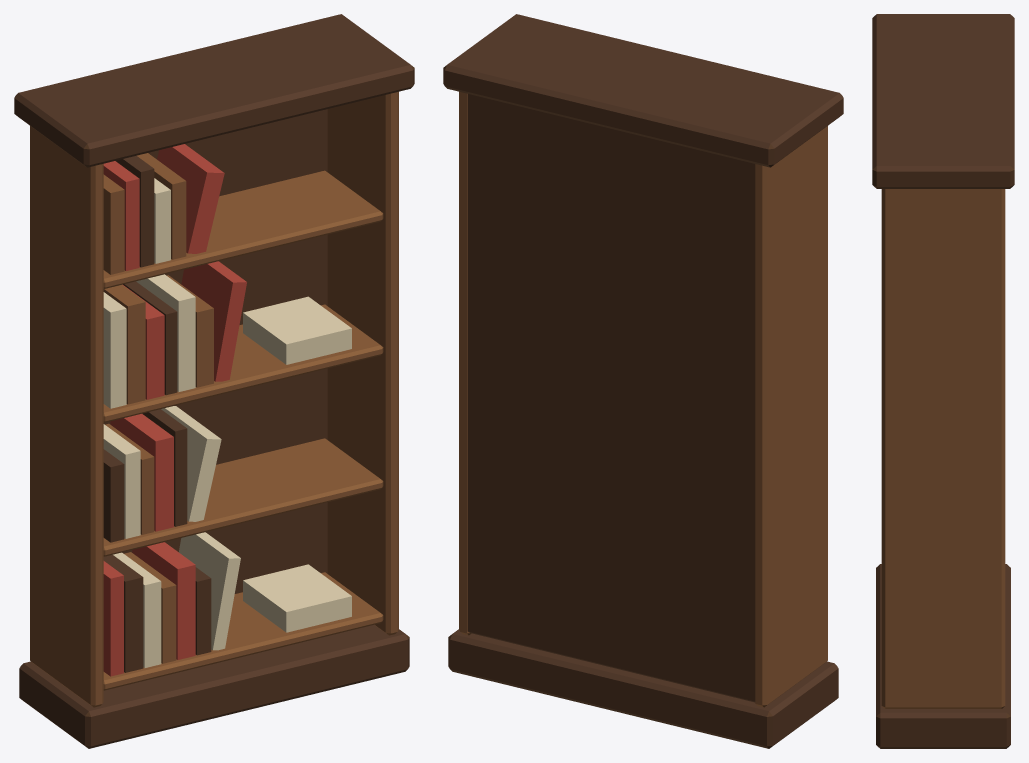
Rendered from prop_bookcase_wood_a.glb.
3 views of the same model, side by side, from view 1: azimuth 30°, elevation 25°; view 2: azimuth 150°, elevation 25°; view 3: azimuth 270°, elevation 25° (orthographic). The views are drawn at different scales.
Visible parts, largest first — view 1: bookcase_book_0_3, bookcase_back, bookcase_book_0_2, bookcase_book_0_0; view 2: bookcase_back, bookcase_book_0_3; view 3: bookcase_book_0_3, bookcase_back.
Part boxes in pixels (box(x1,y1,x2,y2)): bookcase_book_0_3: box(30, 91, 398, 707); bookcase_back: box(14, 14, 414, 748); bookcase_book_0_2: box(103, 178, 351, 667); bookcase_book_0_0: box(103, 144, 246, 676); bookcase_back: box(443, 14, 843, 748); bookcase_book_0_3: box(459, 91, 827, 707); bookcase_book_0_3: box(881, 189, 1005, 708); bookcase_back: box(872, 14, 1014, 748).
Size of the model in its own units: 1.01 by 1.77 by 0.39.
